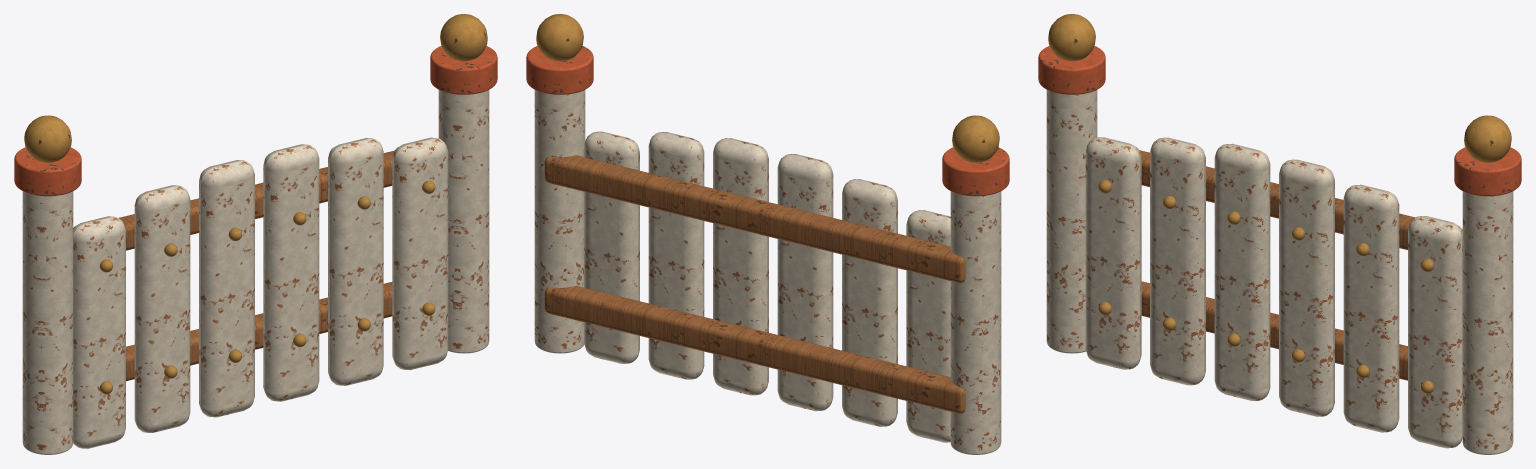
File: S7_木栅栏_分享包版.glb
The picture shows the model from 3 angles, left to right: view 1: azimuth 30°, elevation 25°; view 2: azimuth 150°, elevation 25°; view 3: azimuth 330°, elevation 25°; orthographic projection.
Visible parts, largest first — view 1: Rounded ivory picket.003, Rounded ivory picket.002, Ivory end post, Rounded ivory picket.001, Rounded ivory picket.004, Rounded ivory picket.005, Rounded ivory picket, Ivory end post.001, Coral post cap, Coral post cap.001, Brass post ball, Brass post ball.001 (+2 smaller); view 2: Rear wooden rail, Rear wooden rail.001, Ivory end post, Ivory end post.001, Rounded ivory picket.002, Rounded ivory picket.003, Rounded ivory picket.004, Rounded ivory picket.001, Rounded ivory picket.005, Rounded ivory picket, Coral post cap, Coral post cap.001 (+2 smaller); view 3: Rounded ivory picket.002, Rounded ivory picket.003, Ivory end post.001, Rounded ivory picket.004, Rounded ivory picket.001, Rounded ivory picket, Rounded ivory picket.005, Ivory end post, Coral post cap.001, Coral post cap, Brass post ball.001, Brass post ball (+2 smaller).
Part boxes in pixels (x1,y1,x2,y2): Rounded ivory picket.003: (263,144,319,401); Rounded ivory picket.002: (199,160,254,417); Ivory end post: (22,191,73,454); Rounded ivory picket.001: (134,185,190,432); Rounded ivory picket.004: (328,138,383,385); Rounded ivory picket.005: (392,137,448,370); Rounded ivory picket: (73,216,125,448); Ivory end post.001: (438,90,489,353); Coral post cap: (14,147,81,196); Coral post cap.001: (430,46,497,94); Brass post ball: (24,115,71,162); Brass post ball.001: (440,14,487,61); Rear wooden rail: (544,286,965,413); Rear wooden rail.001: (544,155,965,282); Ivory end post: (950,191,1001,454); Ivory end post.001: (534,90,585,353); Rounded ivory picket.002: (777,154,833,411); Rounded ivory picket.003: (713,138,768,395); Rounded ivory picket.004: (648,132,704,379); Rounded ivory picket.001: (842,179,897,426); Rounded ivory picket.005: (584,131,639,363); Rounded ivory picket: (906,210,950,442); Coral post cap: (942,147,1009,196); Coral post cap.001: (526,46,593,94); Rounded ivory picket.002: (1214,143,1270,400); Rounded ivory picket.003: (1279,159,1334,416); Ivory end post.001: (1462,191,1513,454); Rounded ivory picket.004: (1343,184,1399,432); Rounded ivory picket.001: (1150,137,1205,385); Rounded ivory picket: (1085,137,1141,369); Rounded ivory picket.005: (1408,216,1462,448); Ivory end post: (1046,90,1097,353); Coral post cap.001: (1454,147,1521,196); Coral post cap: (1038,46,1105,94); Brass post ball.001: (1464,115,1511,162); Brass post ball: (1048,14,1095,61).
Bounding box in the file's own units: 2.28 × 1.54 × 0.28.
Materials: 4 (4 with a texture image).
